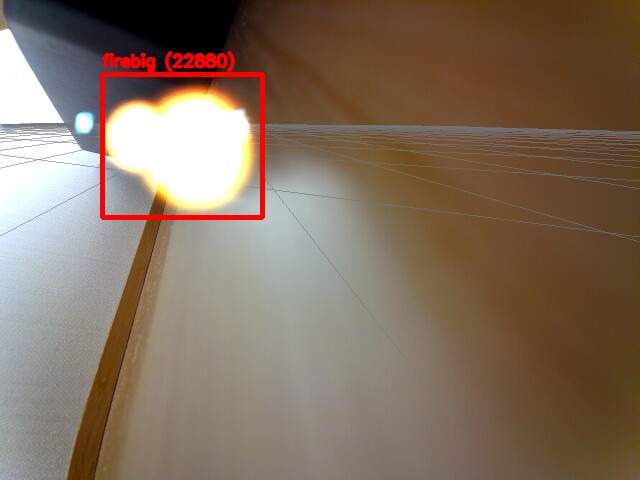firebig: (102, 74, 262, 217)
